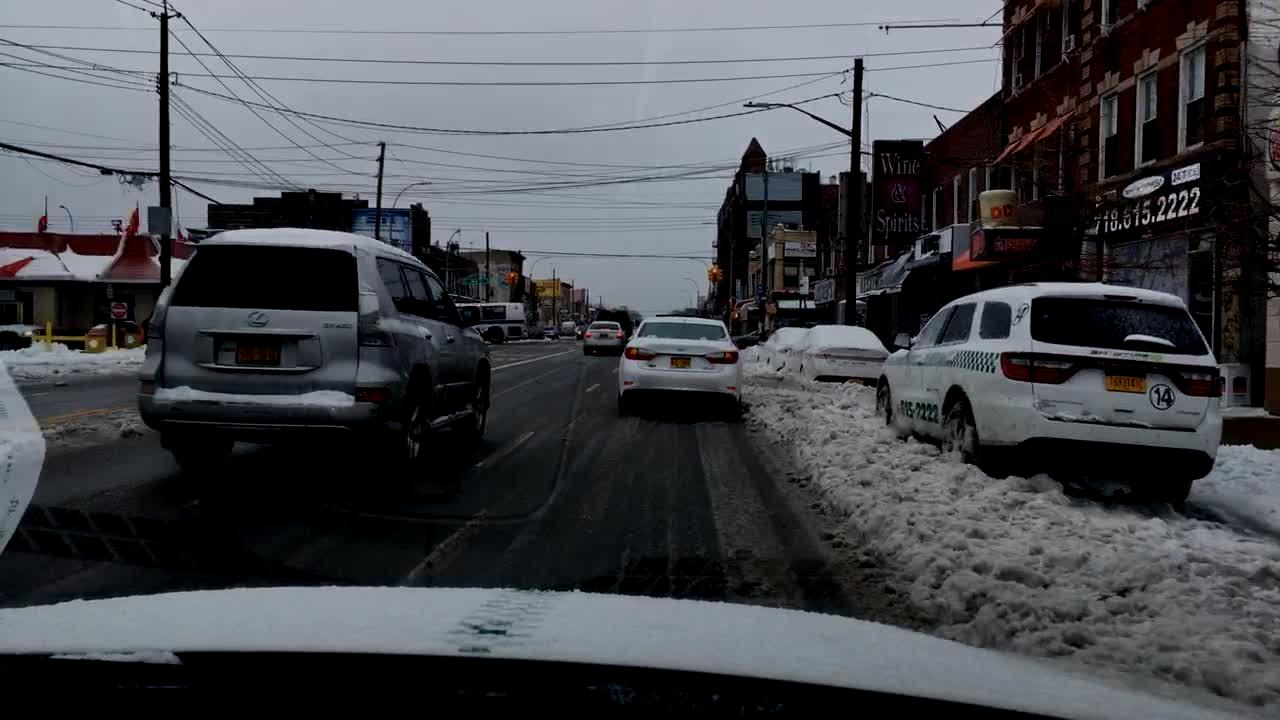lexus: (243, 307, 273, 333)
